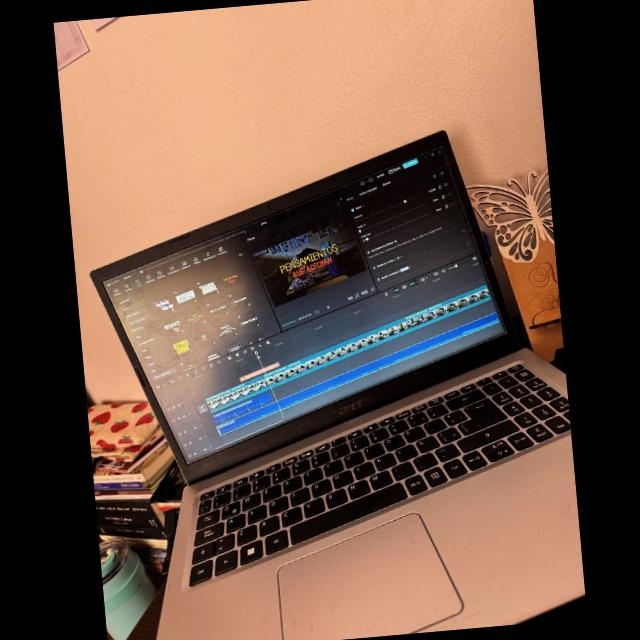laptop: (79, 161, 586, 640)
